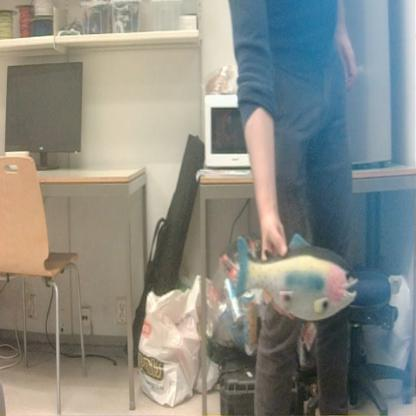rubberfish: (232, 231, 362, 327)
